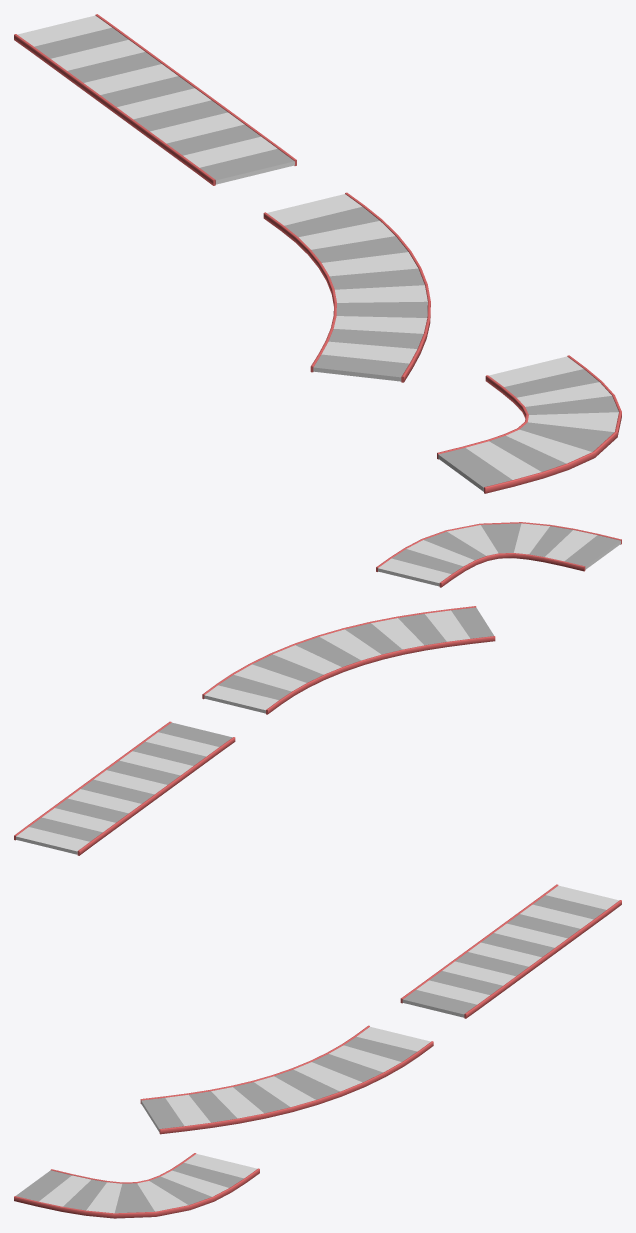
The model's file is Graundes.fbx.
3 renders of one model, top to bottom at view 1: azimuth 30°, elevation 25°; view 2: azimuth 150°, elevation 25°; view 3: azimuth 330°, elevation 25°, orthographic. The views are drawn at different scales.
Parts seen in each view (by area): view 1: graund_45, Graund_0, Graund_90, Graund_0_near, Graund_90_near, graund_45_near; view 2: graund_45, Graund_0, Graund_90, graund_45_near, Graund_0_near, Graund_90_near; view 3: graund_45, Graund_0, Graund_90, graund_45_near, Graund_90_near, Graund_0_near.
Part boxes in pixels (bbox=[...]): graund_45: bbox=[267, 194, 427, 381]; Graund_0: bbox=[17, 15, 294, 184]; Graund_90: bbox=[438, 356, 618, 491]; Graund_0_near: bbox=[14, 14, 296, 185]; Graund_90_near: bbox=[437, 355, 621, 493]; graund_45_near: bbox=[263, 192, 430, 382]; graund_45: bbox=[204, 607, 493, 713]; Graund_0: bbox=[16, 722, 232, 854]; Graund_90: bbox=[378, 523, 620, 586]; graund_45_near: bbox=[202, 606, 495, 714]; Graund_0_near: bbox=[14, 721, 235, 855]; Graund_90_near: bbox=[376, 522, 621, 587]; graund_45: bbox=[141, 1026, 430, 1132]; Graund_0: bbox=[402, 885, 618, 1017]; Graund_90: bbox=[16, 1154, 257, 1213]; graund_45_near: bbox=[140, 1025, 433, 1134]; Graund_90_near: bbox=[14, 1153, 259, 1218]; Graund_0_near: bbox=[400, 884, 621, 1018].
Size of the model in its own units: 3580 by 103 by 17546.
